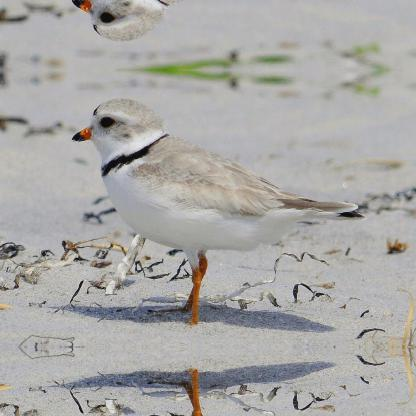Bird: (70, 100, 358, 316)
